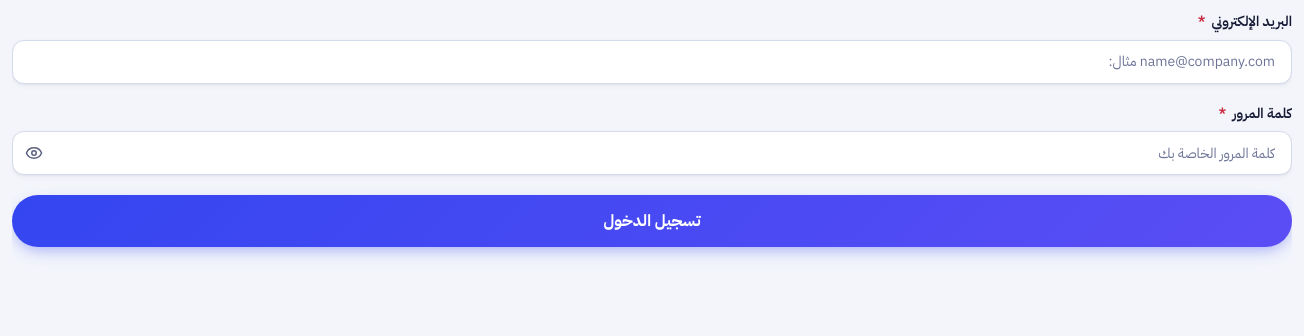
Scenario: LoginForm › shows the too-many-tries message for 429, in Arabic too
This screenshot has width=1304, height=336.
Type "sara@prime.test" into the field with test id "login-email" at (652,62), box [12, 40, 1292, 84]
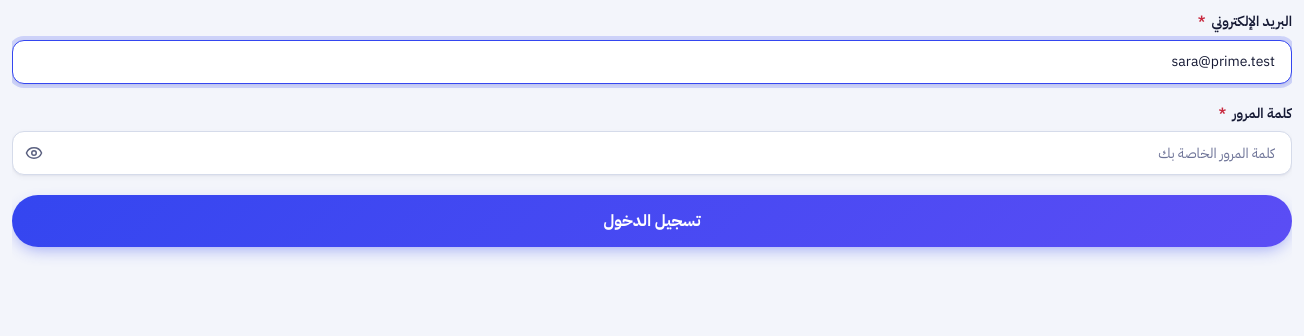
Type "not-the-password" into the password field with test id "login-password" at (652,153), box [12, 131, 1292, 175]
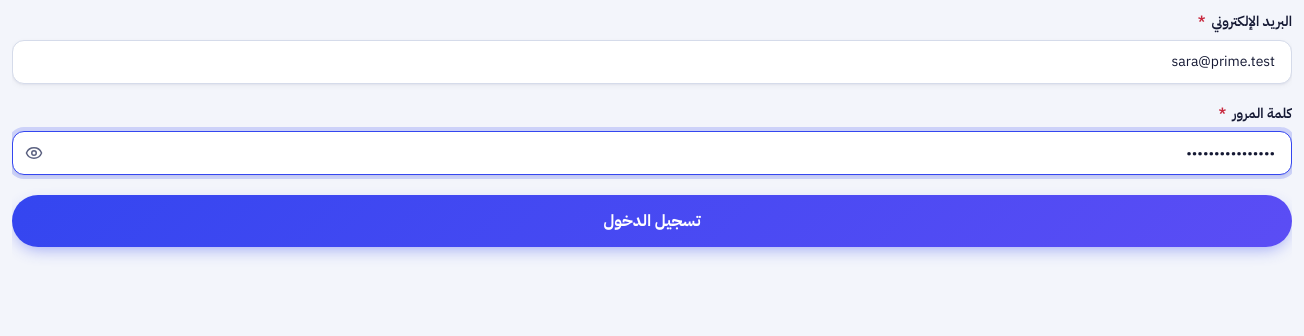
Click the button with test id "login-submit" at (652,221), box [12, 195, 1292, 247]
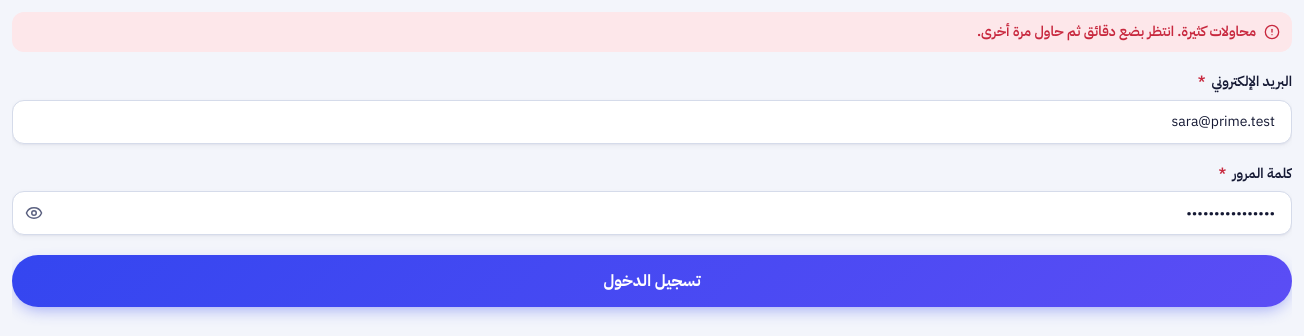
Result: the message shows "محاولات كثيرة" at [977, 21, 1256, 42]
